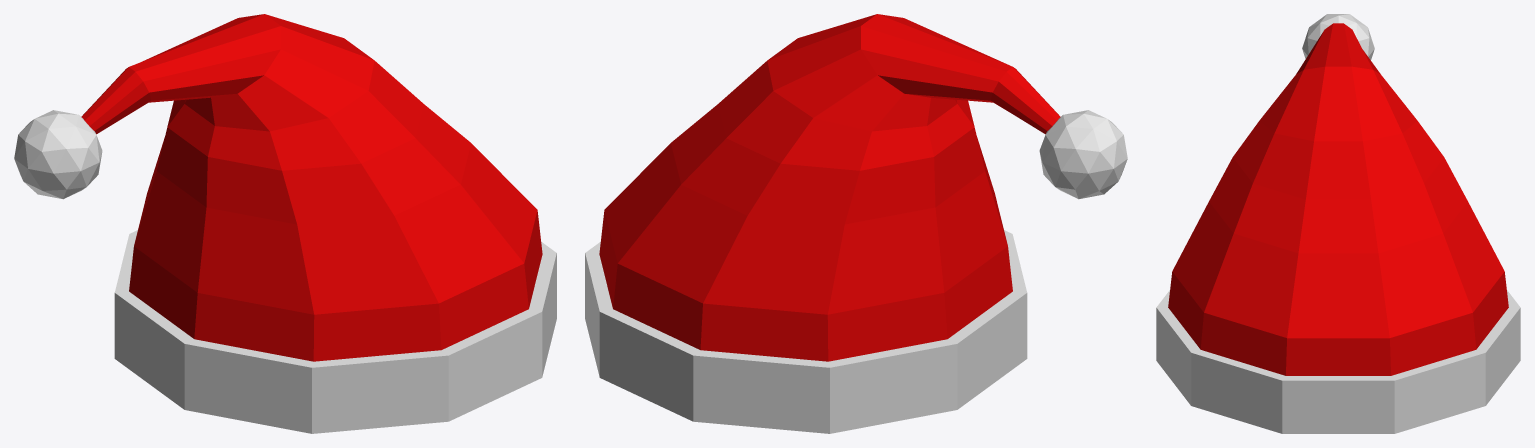
The model's file is SantaHat.fbx.
3 renders of one model, left to right at view 1: azimuth 30°, elevation 25°; view 2: azimuth 150°, elevation 25°; view 3: azimuth 270°, elevation 25°, orthographic. The views are drawn at different scales.
Parts seen in each view (by area): view 1: SantaHat; view 2: SantaHat; view 3: SantaHat.
Boxes of the visible parts, left/top/right/bottom form: SantaHat: left=14, top=14, right=556, bottom=433; SantaHat: left=585, top=14, right=1127, bottom=433; SantaHat: left=1156, top=14, right=1520, bottom=433.
Size of the model in its own units: 43.37 by 27.67 by 33.9.
